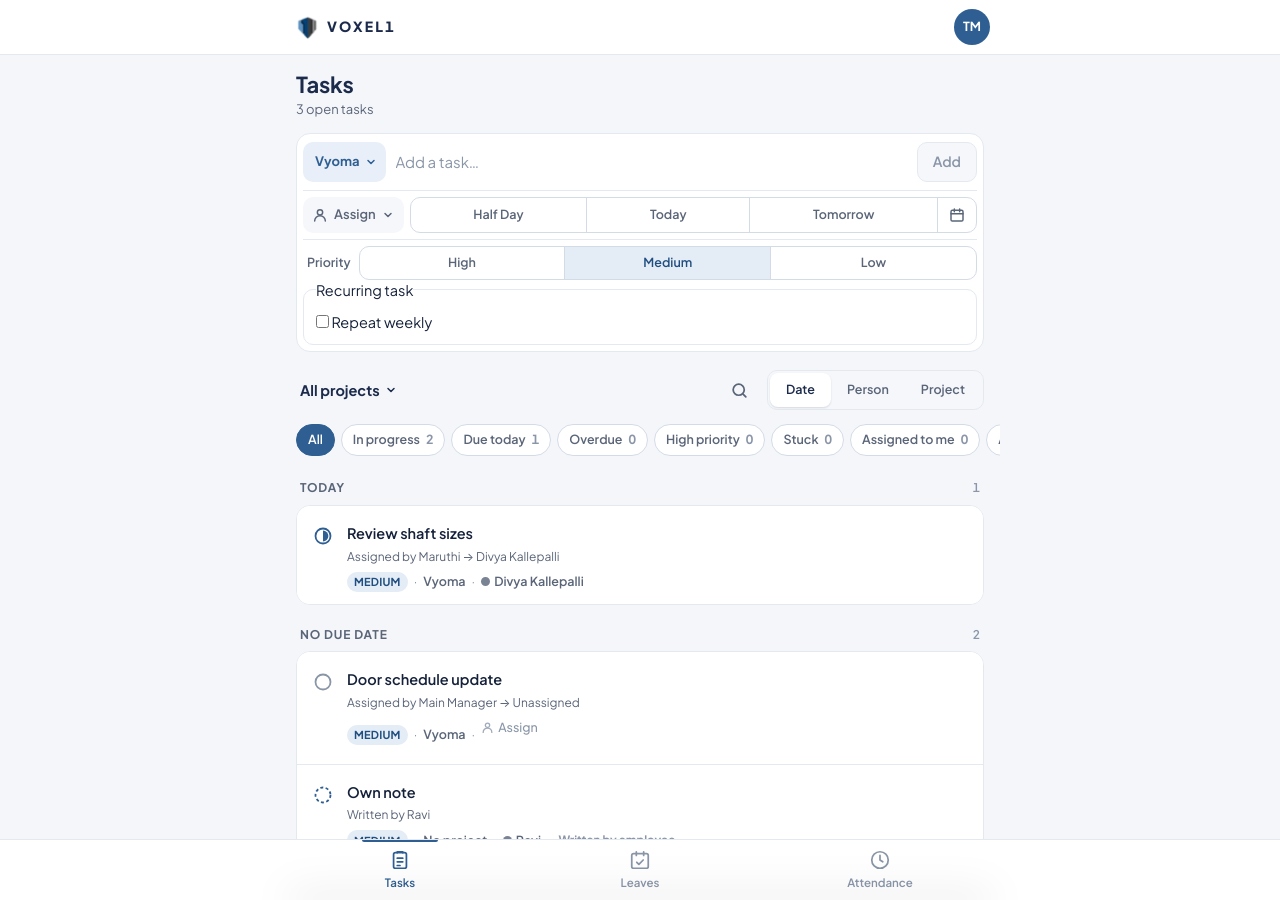
manager app › shows the actual assigner and recipient across the shared manager board
Expected: the text "Assigned by Maruthi → Divya Kallepalli" is shown, [347, 548, 560, 564]
Expected: the text "Assigned by Main Manager → Unassigned" is shown, [347, 695, 580, 710]
Click the button "Door schedule update".
click(425, 679)  # box [347, 670, 971, 690]
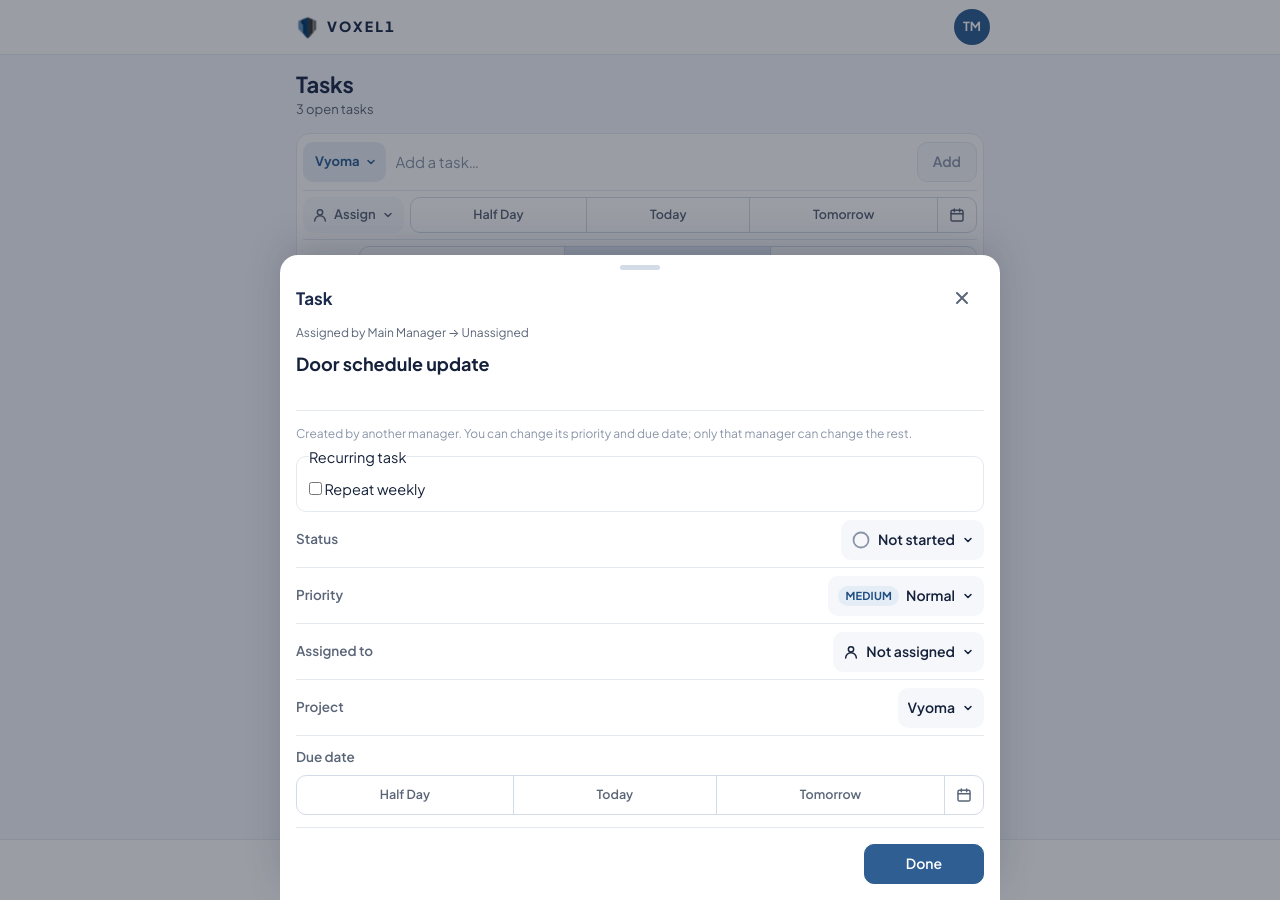
Expected: the text "Created by another manager. You can change its priority and due date" is shown, [296, 426, 984, 442]
